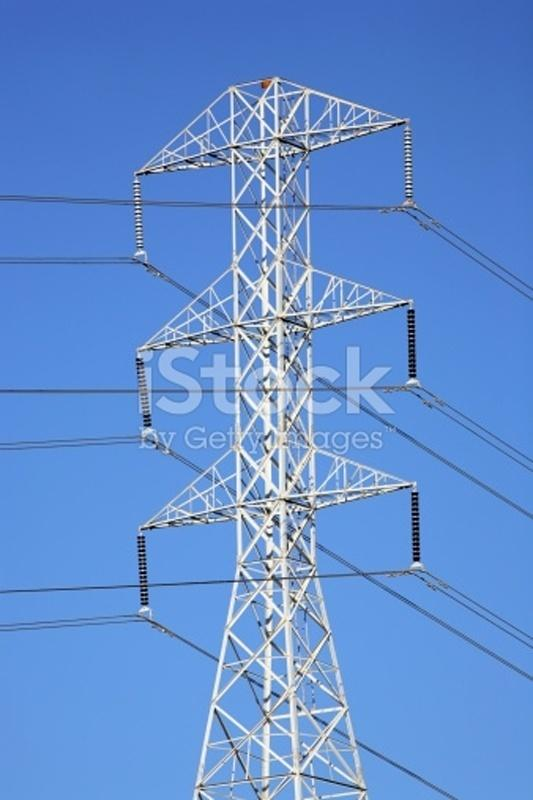power_tower: (119, 67, 426, 792)
